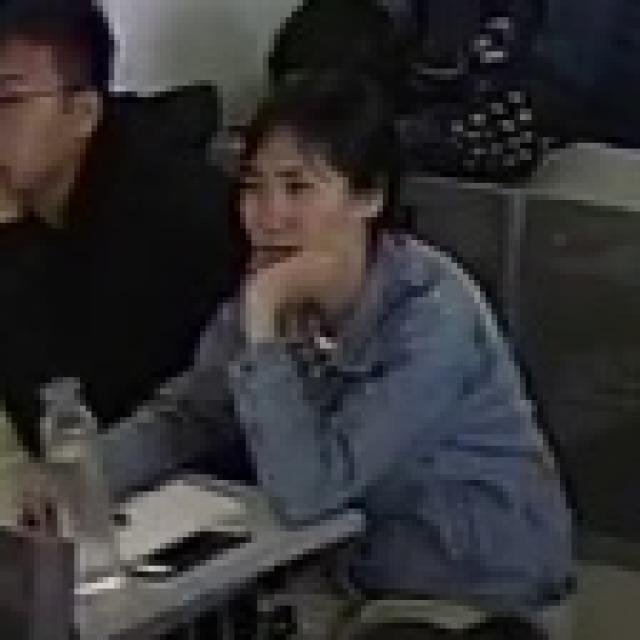listen: (110, 72, 574, 608), (4, 2, 228, 385)
